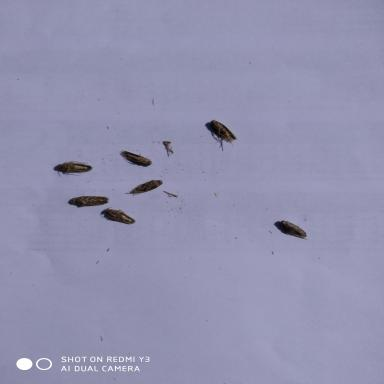pbw: (204, 117, 243, 151), (48, 155, 96, 180), (121, 171, 164, 198), (94, 205, 138, 231), (275, 218, 309, 244), (121, 148, 155, 172), (64, 191, 113, 207)
